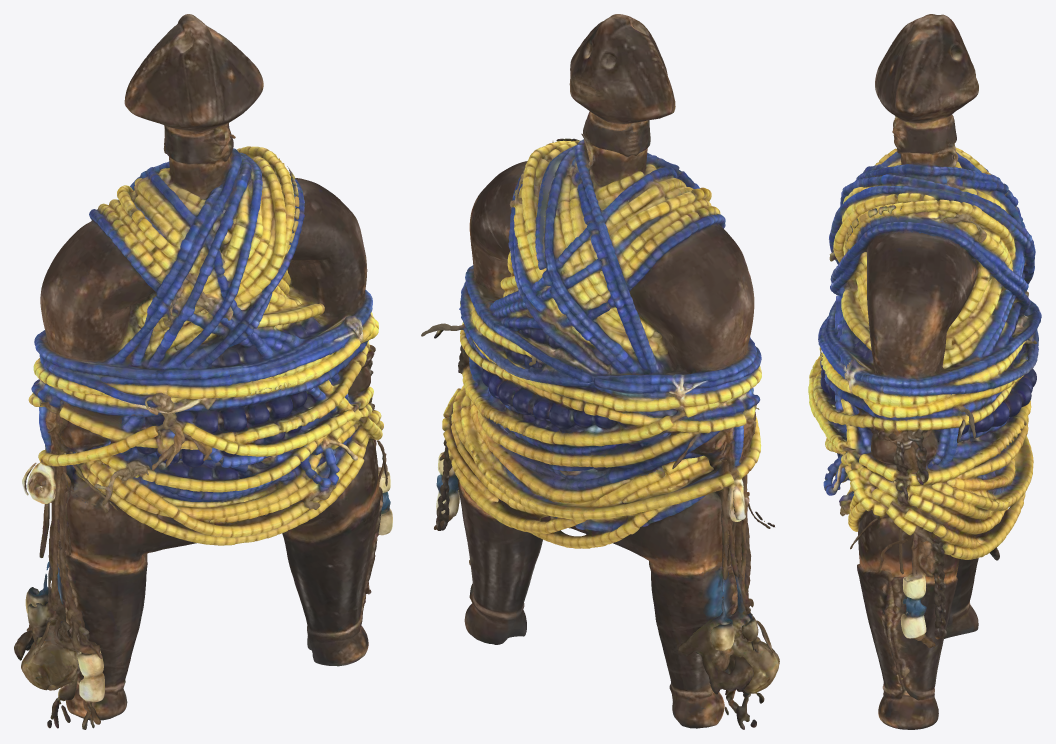
File: preview.glb
3 renders of one model, left to right at view 1: azimuth 30°, elevation 25°; view 2: azimuth 150°, elevation 25°; view 3: azimuth 270°, elevation 25°, orthographic. The views are drawn at different scales.
Visible parts, largest first — view 1: Object_2; view 2: Object_2; view 3: Object_2.
Part boxes in pixels (x1,y1,x2,y2): Object_2: (14, 14, 392, 729); Object_2: (421, 14, 779, 729); Object_2: (808, 14, 1041, 729).
Size of the model in its own units: 139 by 257 by 82.
Materials: 1 (1 with a texture image).
